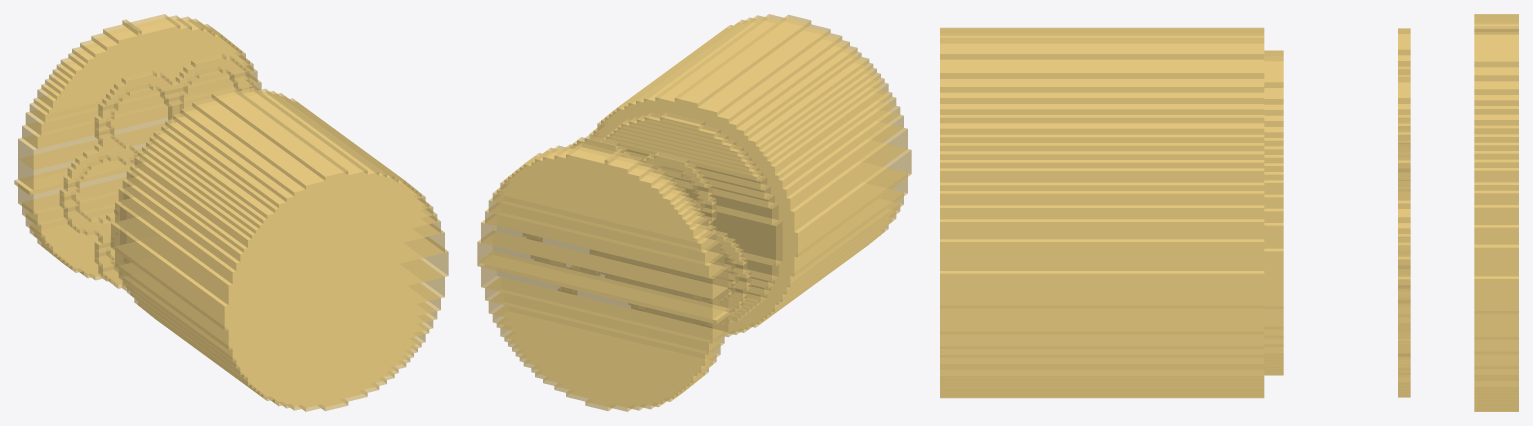
3 renders of one model, left to right at view 1: azimuth 30°, elevation 25°; view 2: azimuth 150°, elevation 25°; view 3: azimuth 270°, elevation 25°, orthographic. The views are drawn at different scales.
Parts seen in each view (by area): view 1: cell_union_203, cell_union_200, cell_union_190, cell_union_185, cell_union_180, cell_union_192, cell_union_181, cell_union_194, cell_union_188, cell_union_193, cell_union_195, cell_union_187 (+53 smaller); view 2: cell_union_17, cell_union_27, cell_union_203, cell_union_181, cell_union_180, cell_union_1, cell_union_12, cell_union_13, cell_union_5, cell_union_190, cell_union_200, cell_union_193 (+68 smaller); view 3: cell_union_203, cell_union_200, cell_union_190, cell_union_181, cell_union_180, cell_union_194, cell_union_193, cell_union_192, cell_union_183, cell_union_187, cell_union_195, cell_union_206 (+56 smaller).
Part boxes in pixels (left/top/right/bottom): cell_union_203: left=111, top=216, right=448, bottom=330; cell_union_200: left=115, top=241, right=444, bottom=349; cell_union_190: left=115, top=198, right=444, bottom=305; cell_union_185: left=118, top=263, right=440, bottom=360; cell_union_180: left=180, top=88, right=379, bottom=196; cell_union_192: left=118, top=185, right=440, bottom=284; cell_union_181: left=192, top=87, right=367, bottom=189; cell_union_194: left=122, top=176, right=437, bottom=271; cell_union_188: left=122, top=276, right=437, bottom=368; cell_union_193: left=173, top=91, right=386, bottom=202; cell_union_195: left=126, top=168, right=433, bottom=262; cell_union_187: left=134, top=154, right=425, bottom=248; cell_union_17: left=477, top=231, right=728, bottom=319; cell_union_27: left=481, top=214, right=728, bottom=299; cell_union_203: left=713, top=143, right=911, bottom=257; cell_union_181: left=655, top=14, right=830, bottom=116; cell_union_180: left=643, top=15, right=842, bottom=122; cell_union_1: left=485, top=277, right=724, bottom=354; cell_union_12: left=481, top=264, right=728, bottom=343; cell_union_13: left=485, top=203, right=724, bottom=277; cell_union_5: left=488, top=292, right=720, bottom=365; cell_union_190: left=681, top=124, right=907, bottom=231; cell_union_200: left=721, top=167, right=907, bottom=276; cell_union_193: left=636, top=17, right=849, bottom=128; cell_union_203: left=940, top=239, right=1264, bottom=308; cell_union_200: left=940, top=271, right=1264, bottom=334; cell_union_190: left=940, top=219, right=1264, bottom=270; cell_union_181: left=940, top=30, right=1264, bottom=78; cell_union_180: left=940, top=27, right=1264, bottom=92; cell_union_194: left=940, top=191, right=1264, bottom=219; cell_union_193: left=940, top=29, right=1264, bottom=103; cell_union_192: left=940, top=206, right=1264, bottom=239; cell_union_183: left=940, top=37, right=1264, bottom=59; cell_union_187: left=940, top=160, right=1264, bottom=182; cell_union_195: left=940, top=183, right=1264, bottom=205; cell_union_206: left=940, top=93, right=1264, bottom=114.
Size of the model in its own units: 620 by 620 by 910.
